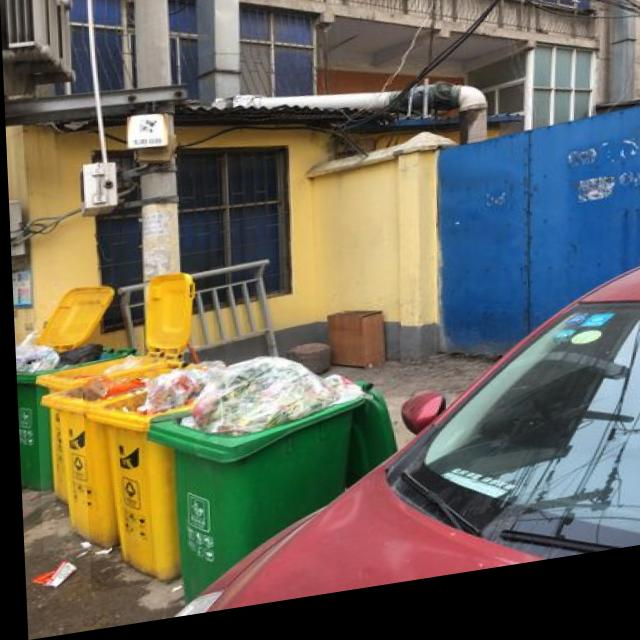overflow: (142, 346, 394, 611), (32, 352, 192, 553), (79, 368, 200, 594), (12, 319, 136, 494)
